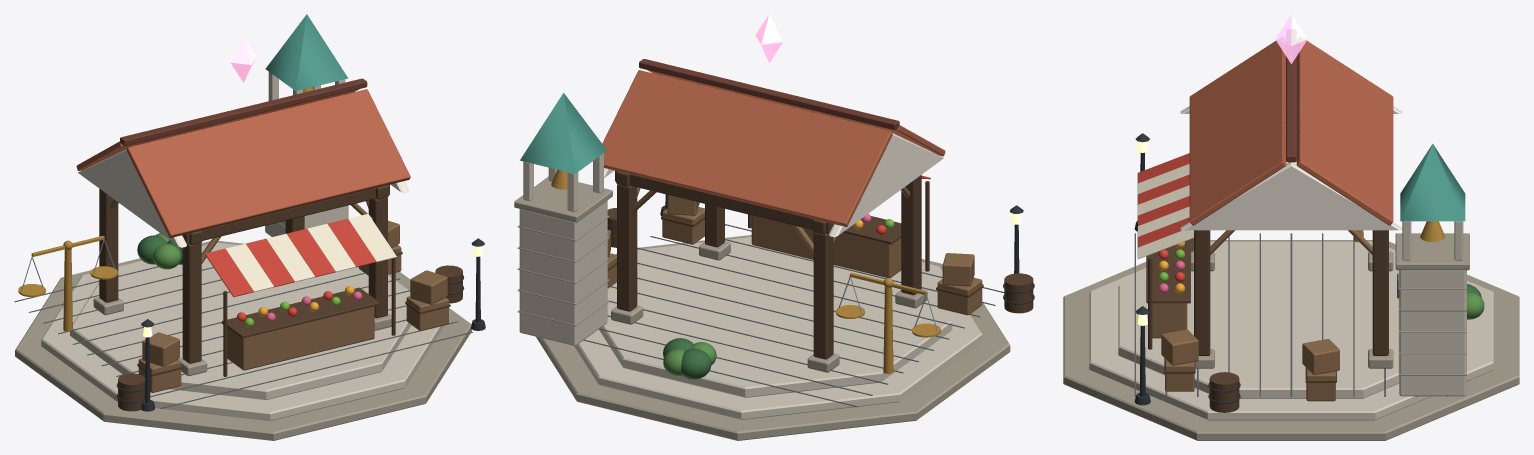
File: unit06.glb
The picture shows the model from 3 angles, left to right: view 1: azimuth 30°, elevation 25°; view 2: azimuth 150°, elevation 25°; view 3: azimuth 270°, elevation 25°; orthographic projection. The views are drawn at different scales.
Parts seen in each view (by area): view 1: rw3_unit06_market_part1, rw3_unit06_market_part5, rw3_unit06_market_part0, rw3_unit06_market_part3, rw3_unit06_market_part4, rw3_unit06_market_part8, rw3_unit06_market_part9, rw3_unit06_market_part24, rw3_unit06_market_part7, rw3_unit06_market_part2, rw3_unit06_market_part6, rw3_unit06_market_part22 (+4 smaller); view 2: rw3_unit06_market_part1, rw3_unit06_market_part5, rw3_unit06_market_part0, rw3_unit06_market_part3, rw3_unit06_market_part4, rw3_unit06_market_part2, rw3_unit06_market_part24, rw3_unit06_market_part7, rw3_unit06_market_part6, rw3_unit06_market_part22, rw3_unit06_market_part28, Crystal (+2 smaller); view 3: rw3_unit06_market_part1, rw3_unit06_market_part5, rw3_unit06_market_part0, rw3_unit06_market_part3, rw3_unit06_market_part7, rw3_unit06_market_part4, rw3_unit06_market_part24, rw3_unit06_market_part9, rw3_unit06_market_part8, rw3_unit06_market_part2, rw3_unit06_market_part6, rw3_unit06_market_part25 (+2 smaller).
Boxes of the visible parts, box(x1,y1,x2,y2) form: rw3_unit06_market_part1: box(41, 72, 444, 420); rw3_unit06_market_part5: box(76, 89, 410, 237); rw3_unit06_market_part0: box(15, 222, 471, 440); rw3_unit06_market_part3: box(99, 184, 462, 411); rw3_unit06_market_part4: box(110, 200, 448, 392); rw3_unit06_market_part8: box(205, 218, 376, 297); rw3_unit06_market_part9: box(225, 214, 396, 292); rw3_unit06_market_part24: box(265, 14, 348, 90); rw3_unit06_market_part7: box(78, 149, 409, 247); rw3_unit06_market_part2: box(14, 266, 472, 408); rw3_unit06_market_part6: box(120, 78, 367, 147); rw3_unit06_market_part22: box(18, 87, 313, 331); rw3_unit06_market_part1: box(519, 153, 982, 419); rw3_unit06_market_part5: box(602, 70, 945, 226); rw3_unit06_market_part0: box(514, 176, 1010, 440); rw3_unit06_market_part3: box(607, 170, 1033, 359); rw3_unit06_market_part4: box(607, 186, 982, 315); rw3_unit06_market_part2: box(583, 224, 1004, 407); rw3_unit06_market_part24: box(520, 93, 606, 173); rw3_unit06_market_part7: box(604, 133, 943, 237); rw3_unit06_market_part6: box(639, 59, 899, 131); rw3_unit06_market_part22: box(551, 169, 940, 373); rw3_unit06_market_part28: box(663, 338, 711, 379); Crystal: box(755, 14, 782, 63); rw3_unit06_market_part1: box(1089, 221, 1493, 420); rw3_unit06_market_part5: box(1189, 40, 1393, 225); rw3_unit06_market_part0: box(1063, 233, 1519, 440); rw3_unit06_market_part3: box(1146, 230, 1388, 412); rw3_unit06_market_part7: box(1180, 106, 1402, 230); rw3_unit06_market_part4: box(1152, 230, 1372, 401); rw3_unit06_market_part24: box(1400, 144, 1465, 221); rw3_unit06_market_part9: box(1137, 164, 1193, 258); rw3_unit06_market_part8: box(1137, 153, 1189, 247); rw3_unit06_market_part2: box(1134, 233, 1448, 396); rw3_unit06_market_part6: box(1282, 56, 1300, 162); rw3_unit06_market_part25: box(1134, 133, 1240, 405).
Size of the model in its own units: 6.32 by 4.91 by 6.14.
